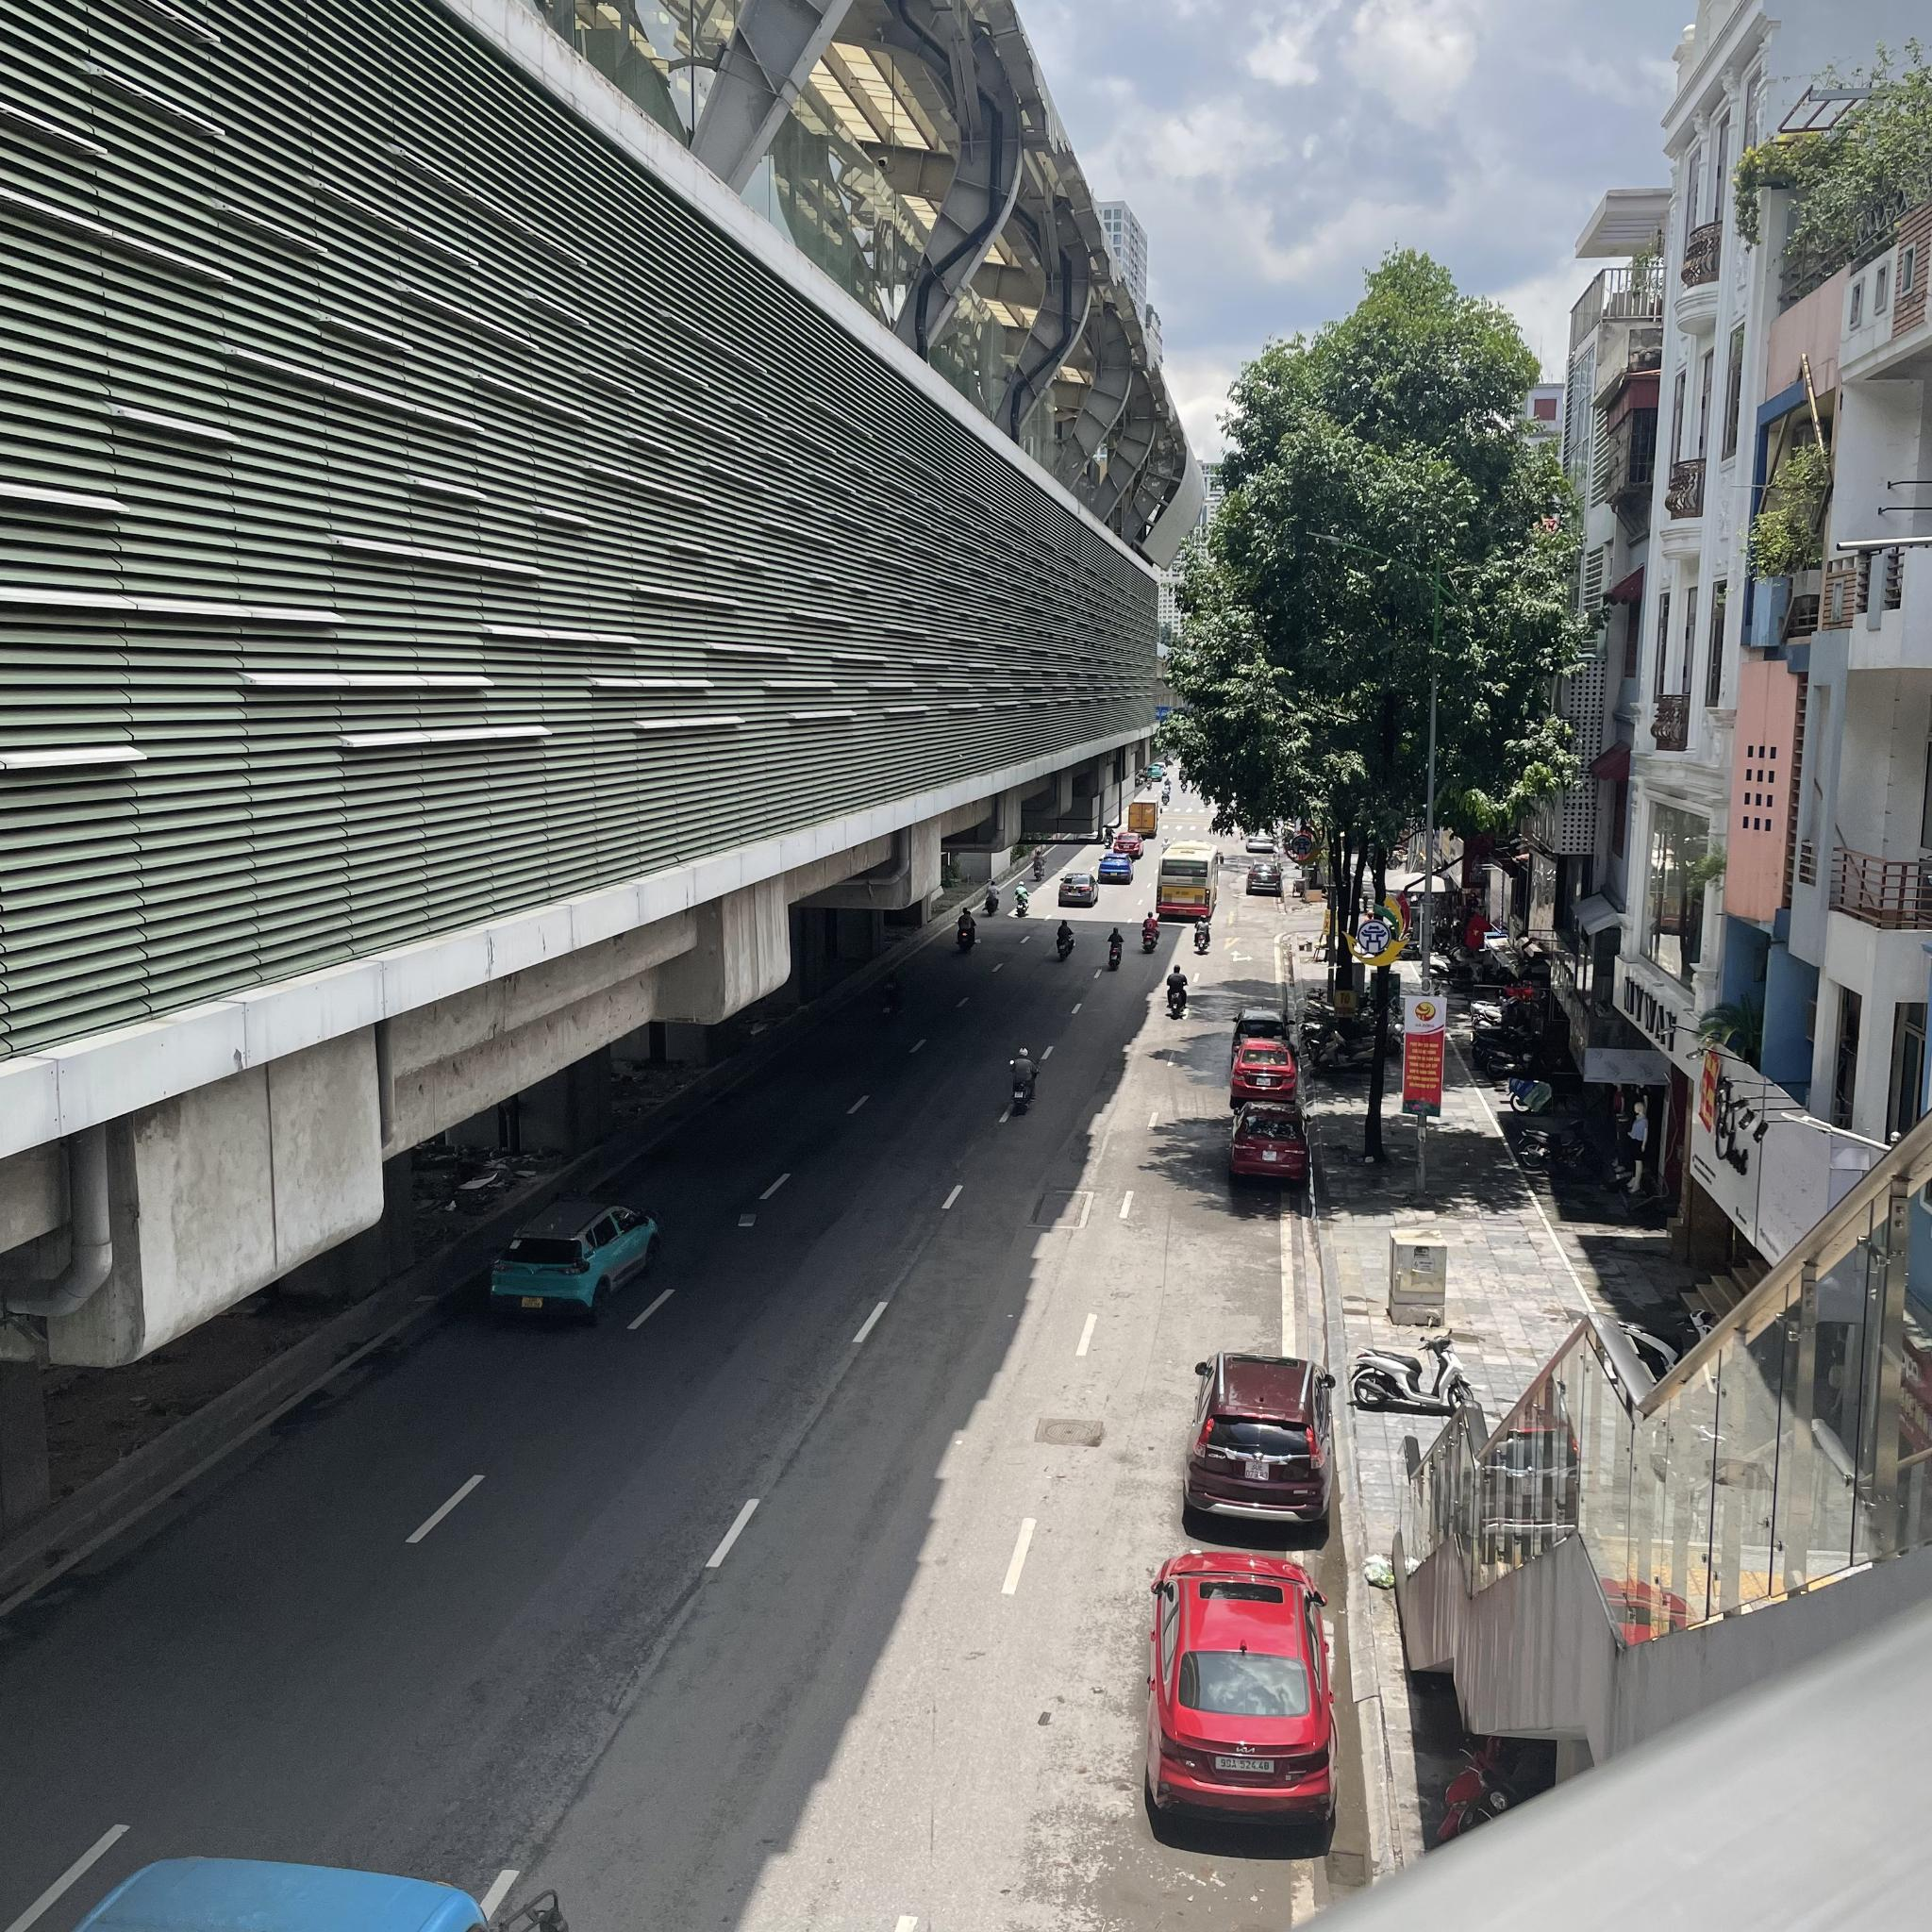car: (1143, 1550, 1339, 1829), (1182, 1350, 1338, 1541), (487, 1194, 663, 1322), (1230, 1099, 1313, 1184), (1155, 839, 1224, 918), (1231, 1046, 1297, 1104), (1231, 1007, 1297, 1058), (1058, 872, 1100, 908), (1246, 860, 1281, 897), (1099, 851, 1134, 886), (1127, 800, 1162, 835), (1113, 832, 1145, 860), (1246, 826, 1276, 851)
motobike: (1007, 1044, 1039, 1115), (1166, 964, 1189, 1016), (955, 906, 977, 952), (1054, 918, 1076, 961), (1106, 925, 1123, 970), (1010, 879, 1030, 918), (1141, 911, 1159, 954), (1194, 913, 1212, 955), (982, 879, 1000, 918), (1030, 847, 1047, 883)
